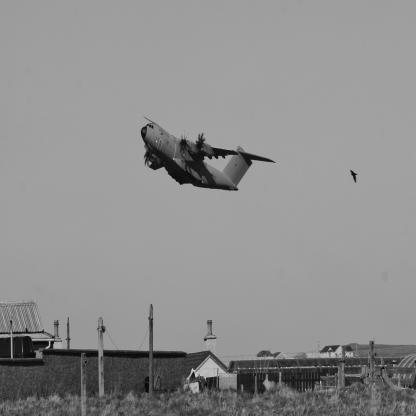A400M: (142, 118, 277, 193)
